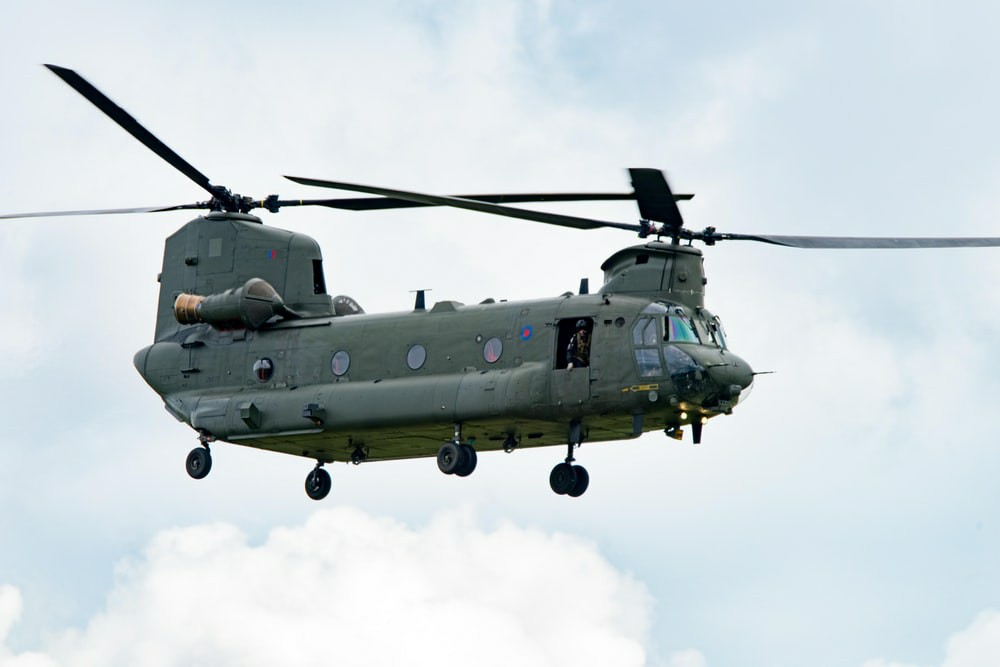chinook: (83, 165, 836, 523)
